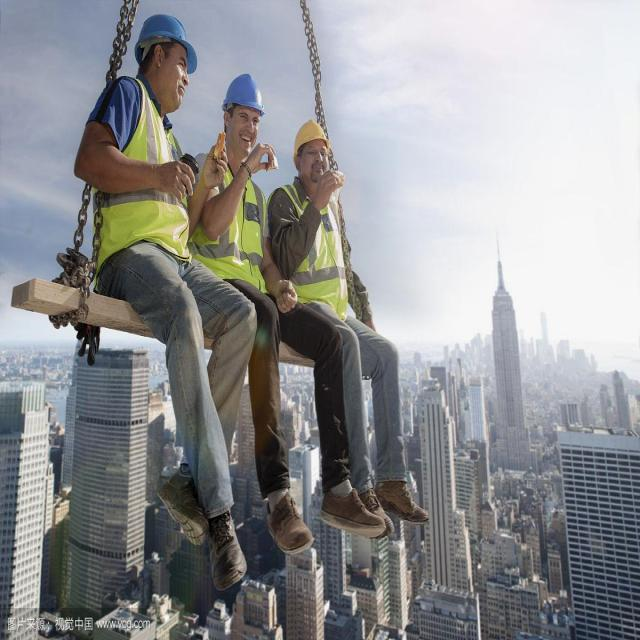face_nomask: (158, 46, 194, 116), (228, 105, 262, 157), (298, 142, 332, 186)
hand_noglove: (161, 149, 197, 203), (199, 140, 226, 193), (272, 278, 300, 324), (249, 140, 278, 180), (314, 171, 348, 205)
head_helmet: (132, 11, 200, 75), (220, 71, 265, 116), (292, 119, 332, 166)
person: (78, 18, 218, 554), (278, 120, 428, 515), (192, 70, 281, 530)
shoes: (153, 458, 211, 549), (262, 482, 324, 564), (316, 477, 387, 542), (199, 506, 247, 596), (370, 468, 434, 532)
vest: (92, 90, 192, 256), (202, 162, 277, 296), (277, 186, 352, 310)
